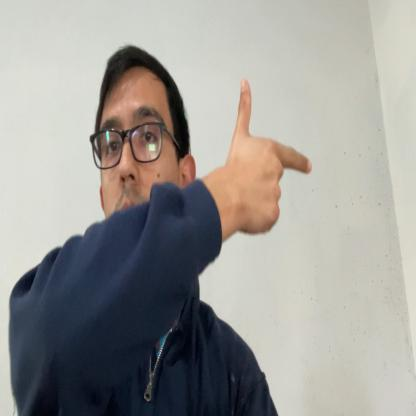G: (228, 76, 312, 235)
